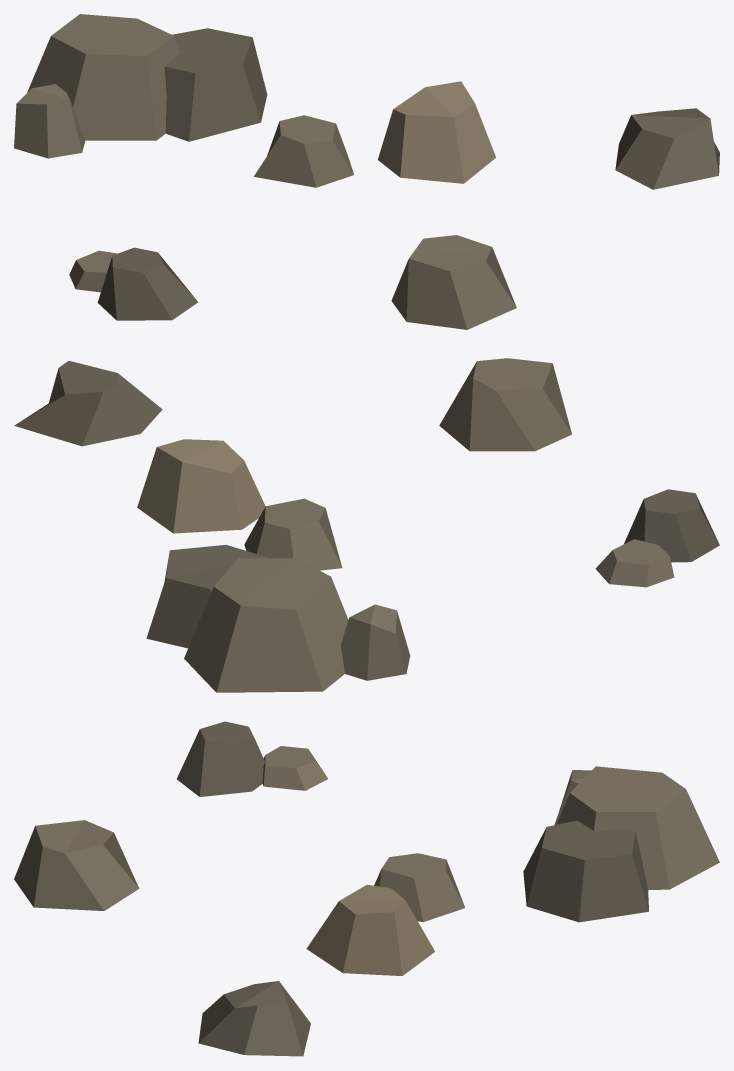
Rendered from SmallRock_1.fbx.
3 renders of one model, top to bottom at view 1: azimuth 30°, elevation 25°; view 2: azimuth 150°, elevation 25°; view 3: azimuth 270°, elevation 25°, orthographic. The views are drawn at different scales.
Visible parts, largest first — view 1: SmallRock_1; view 2: SmallRock_1; view 3: SmallRock_1.
Part boxes in pixels (x1,y1,x2,y2): SmallRock_1: (14,14,719,329); SmallRock_1: (14,358,719,692); SmallRock_1: (14,721,719,1056).
Size of the model in its own units: 68.91 by 8.02 by 69.15.
